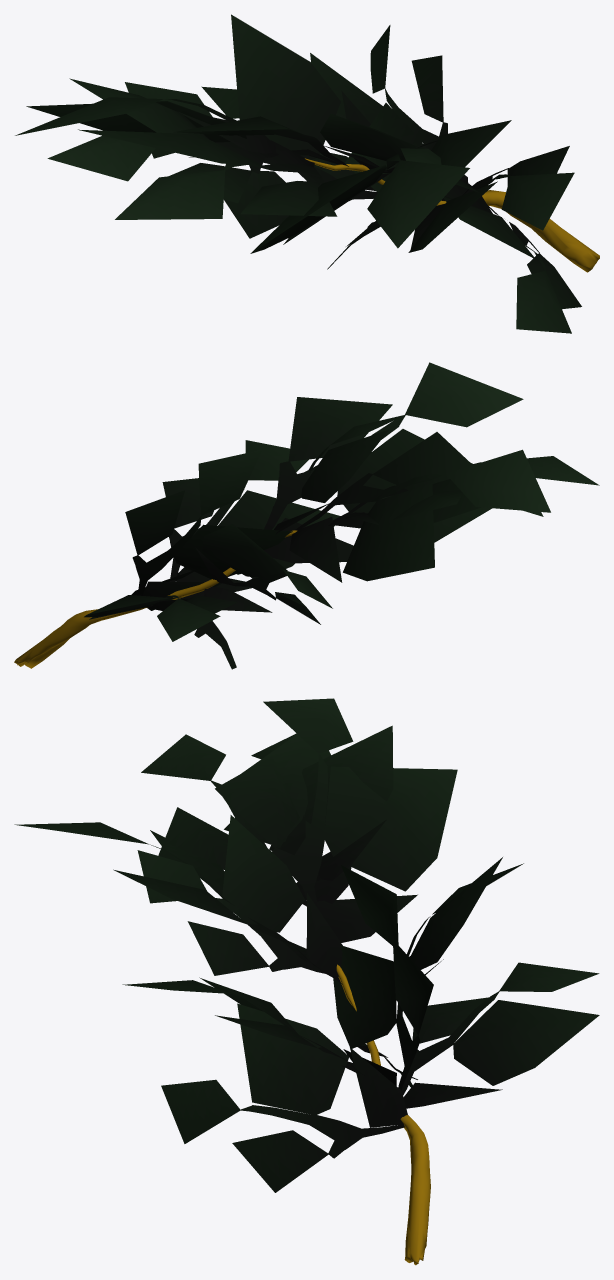
Rendered from beech_dry_bough_leaves_03.fbx.
3 renders of one model, top to bottom at view 1: azimuth 30°, elevation 25°; view 2: azimuth 150°, elevation 25°; view 3: azimuth 270°, elevation 25°, orthographic. The views are drawn at different scales.
Visible parts, largest first — view 1: beech_dry_bough_leaves_03; view 2: beech_dry_bough_leaves_03; view 3: beech_dry_bough_leaves_03.
Boxes of the visible parts, x1=… form: beech_dry_bough_leaves_03: x1=15, y1=14, x2=599, y2=333; beech_dry_bough_leaves_03: x1=14, y1=362, x2=599, y2=669; beech_dry_bough_leaves_03: x1=14, y1=698, x2=599, y2=1265.
Size of the model in its own units: 9.61 by 5.08 by 8.43.
